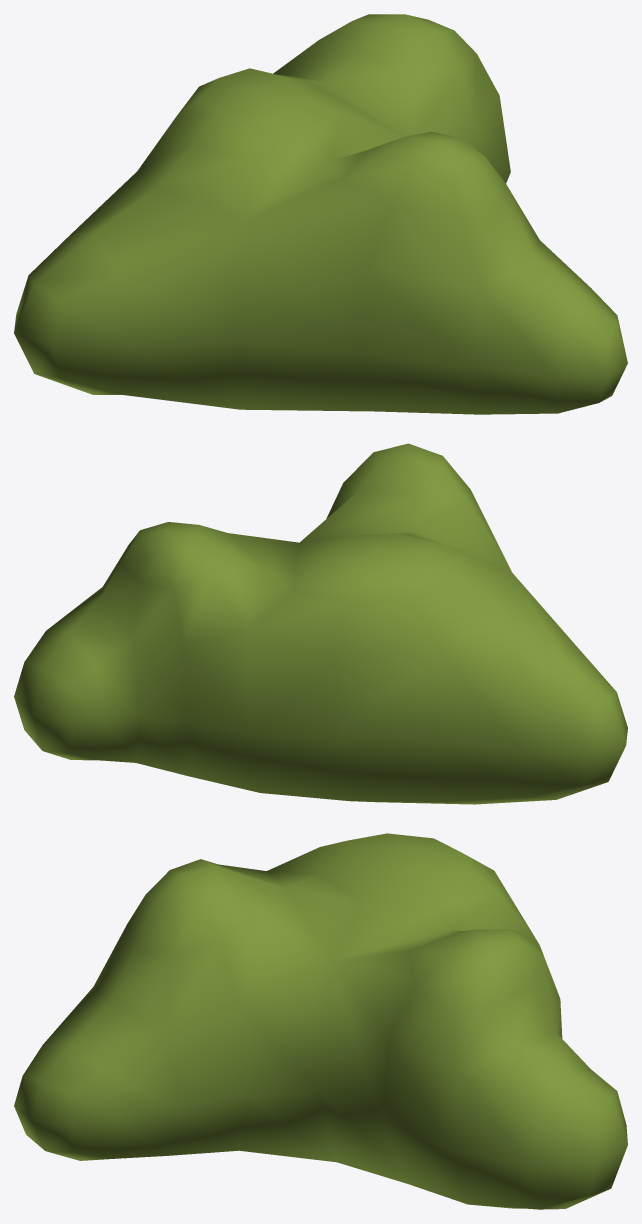
Rendered from Dirt_2.fbx.
3 views of the same model, one above another, from view 1: azimuth 30°, elevation 25°; view 2: azimuth 150°, elevation 25°; view 3: azimuth 270°, elevation 25° (orthographic). The views are drawn at different scales.
Parts seen in each view (by area): view 1: Dirt_2; view 2: Dirt_2; view 3: Dirt_2.
Boxes of the visible parts, left/top/right/bottom form: Dirt_2: left=14, top=14, right=627, bottom=414; Dirt_2: left=14, top=443, right=627, bottom=804; Dirt_2: left=14, top=833, right=627, bottom=1209.
Bounding box in the file's own units: 27.71 × 13.69 × 26.15.
